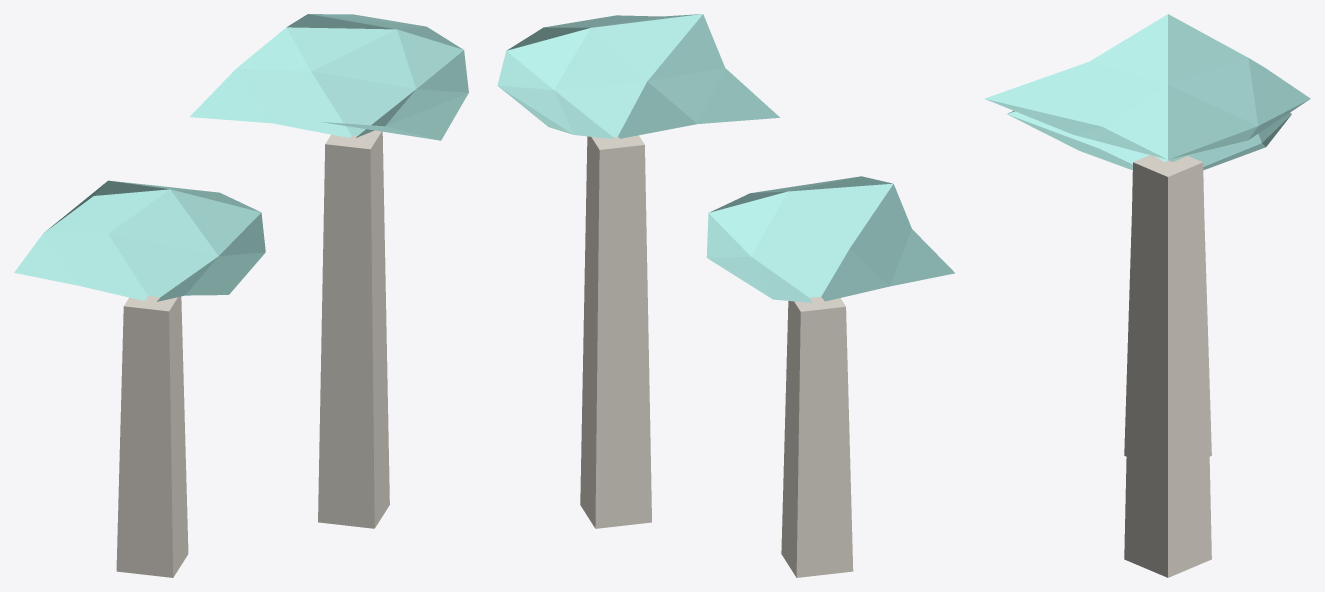
The model's file is glowcap_v30.glb.
3 views of the same model, side by side, from view 1: azimuth 30°, elevation 25°; view 2: azimuth 150°, elevation 25°; view 3: azimuth 270°, elevation 25° (orthographic). The views are drawn at different scales.
Visible parts, largest first — view 1: lod0; view 2: lod0; view 3: lod0.
Boxes of the visible parts, x1,y1,x2,y2 form: lod0: [14, 14, 468, 577]; lod0: [497, 14, 954, 577]; lod0: [984, 14, 1310, 577].
Size of what is drawn, in the model's own units: 0.3128 by 0.3315 by 0.1865.
